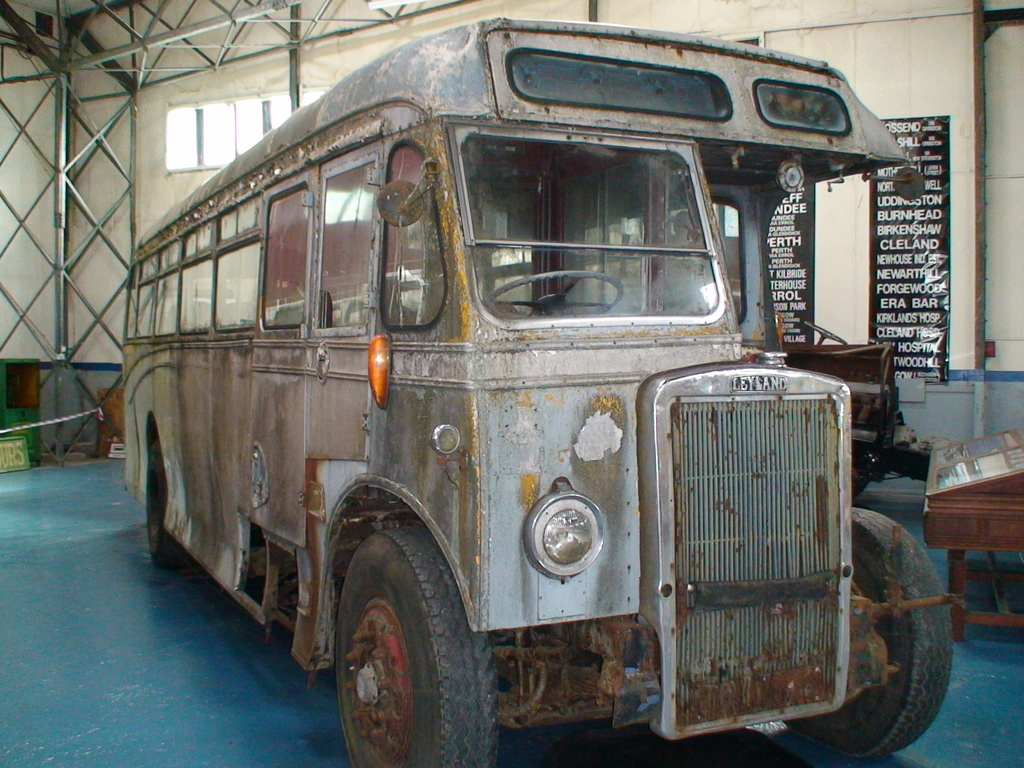Bus: (114, 15, 952, 767)
